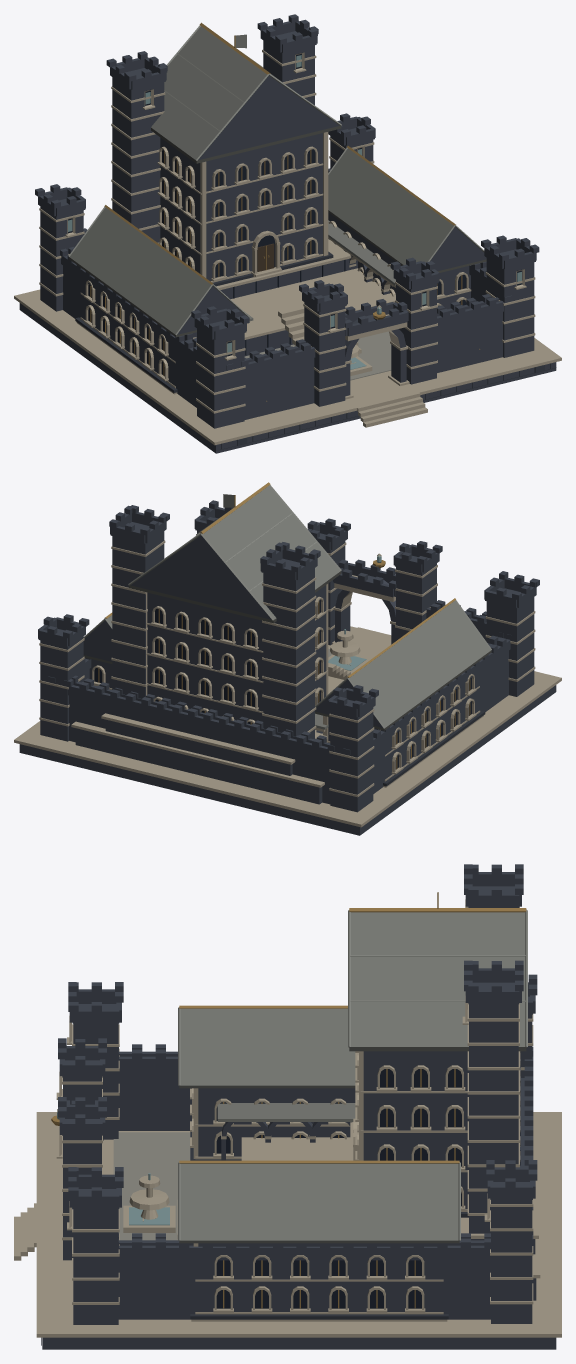
Rendered from basalt.glb.
3 renders of one model, top to bottom at view 1: azimuth 30°, elevation 25°; view 2: azimuth 150°, elevation 25°; view 3: azimuth 270°, elevation 25°, orthographic. The views are drawn at different scales.
Visible parts, largest first — view 1: citadel, citadel-roof, precinct-base, inhabited-detail; view 2: citadel, citadel-roof, precinct-base; view 3: citadel, citadel-roof, precinct-base, inhabited-detail.
Part boxes in pixels (box(x1,y1,x2,y2)): citadel: box(35, 14, 539, 428); citadel-roof: box(68, 22, 486, 337); precinct-base: box(14, 289, 561, 453); inhabited-detail: box(216, 349, 556, 450); citadel: box(38, 494, 539, 812); citadel-roof: box(83, 482, 491, 730); precinct-base: box(14, 626, 561, 835); citadel: box(51, 864, 540, 1324); citadel-roof: box(178, 908, 527, 1243); precinct-base: box(36, 1112, 561, 1349); inhabited-detail: box(14, 1203, 41, 1345).
Size of the model in its own units: 23.5 by 17.2 by 24.52.
